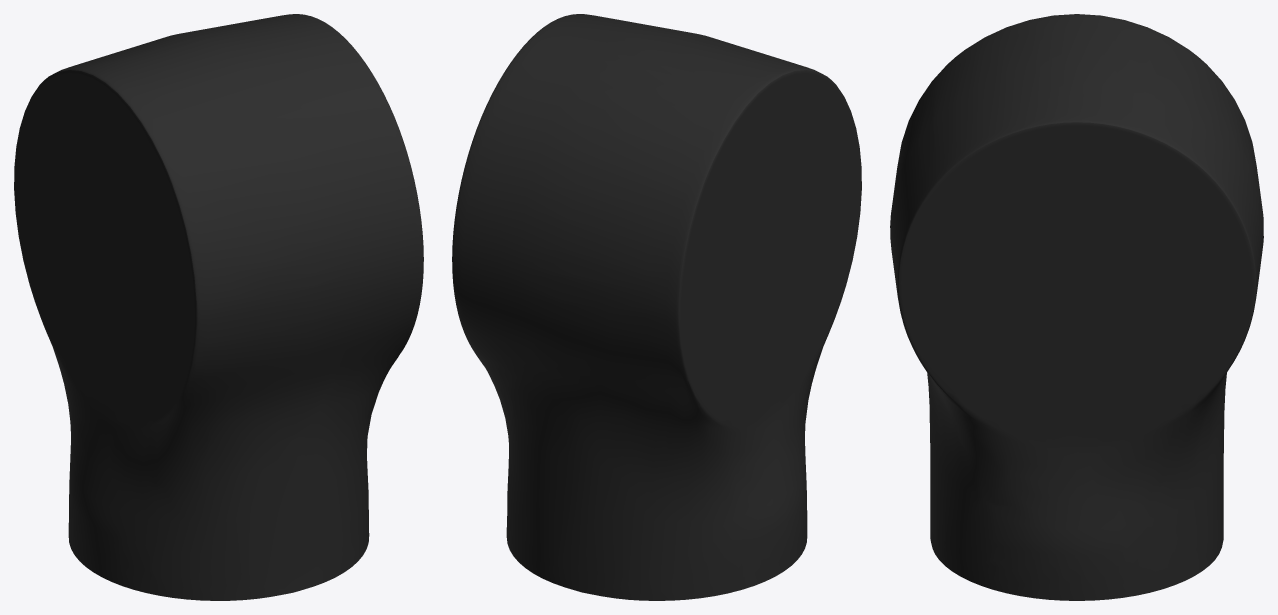
File: shoulder_pitch_l_j1_link.glb
The picture shows the model from 3 angles, left to right: view 1: azimuth 30°, elevation 25°; view 2: azimuth 150°, elevation 25°; view 3: azimuth 270°, elevation 25°; orthographic projection. The views are drawn at different scales.
Parts seen in each view (by area): view 1: Mesh_0.013; view 2: Mesh_0.013; view 3: Mesh_0.013.
Boxes of the visible parts, bbox=[...] form: Mesh_0.013: bbox=[14, 14, 423, 600]; Mesh_0.013: bbox=[452, 14, 861, 600]; Mesh_0.013: bbox=[890, 14, 1263, 600].
Bounding box in the file's own units: 0.08 × 0.144 × 0.1019.
Materials: 1 (1 with a texture image).
